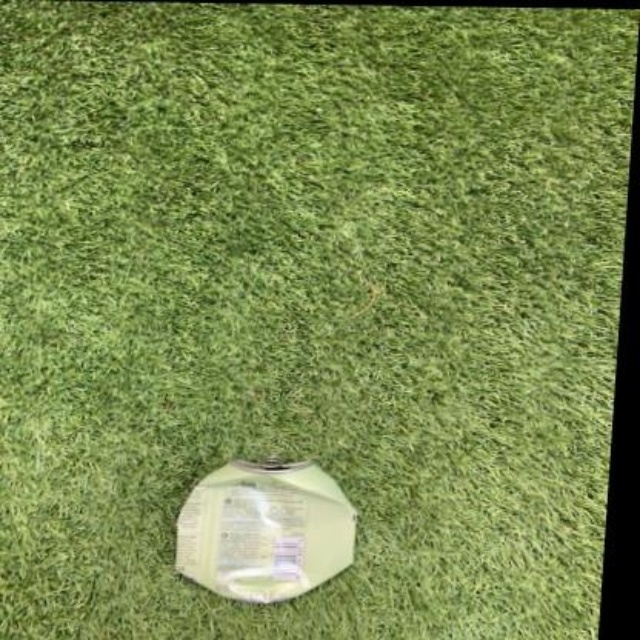trash: (175, 460, 355, 602)
